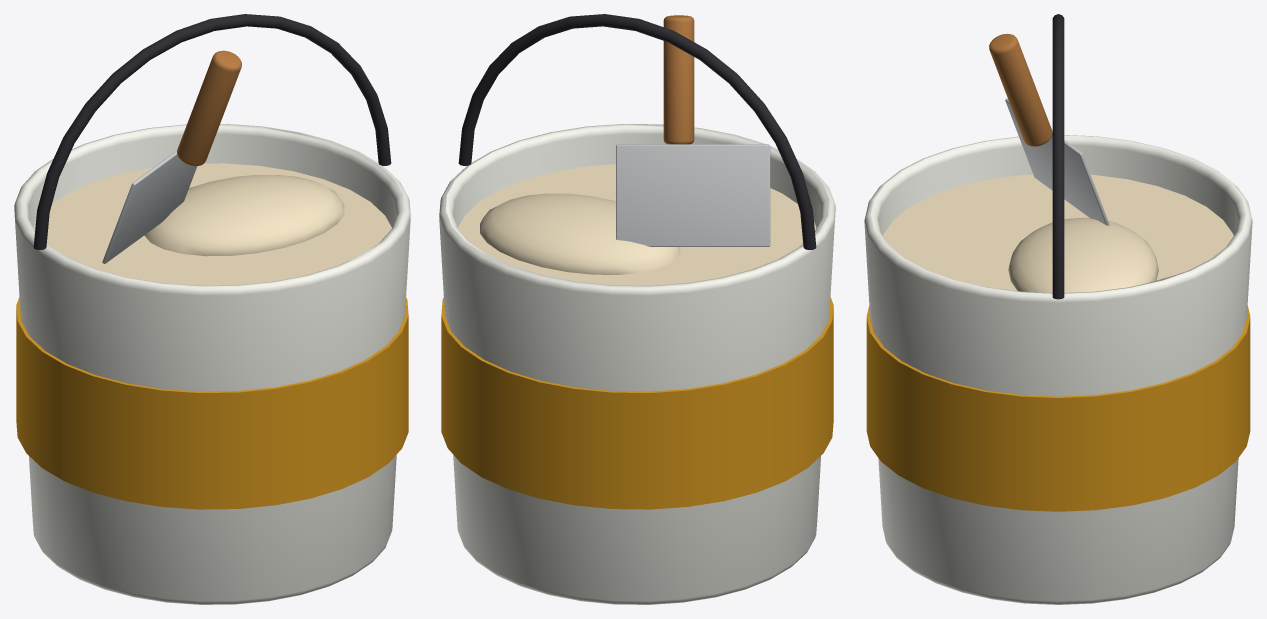
The model's file is putty_bucket.glb.
3 renders of one model, left to right at view 1: azimuth 30°, elevation 25°; view 2: azimuth 150°, elevation 25°; view 3: azimuth 270°, elevation 25°, orthographic. The views are drawn at different scales.
Parts seen in each view (by area): view 1: putty_bucket; view 2: putty_bucket; view 3: putty_bucket.
Part boxes in pixels (bbox=[...]): putty_bucket: bbox=[14, 14, 410, 604]; putty_bucket: bbox=[439, 14, 835, 604]; putty_bucket: bbox=[864, 14, 1252, 604].
Size of the model in its own units: 0.32 by 0.44 by 0.3094.
